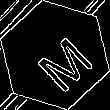M_NW: (21, 21, 89, 89)
